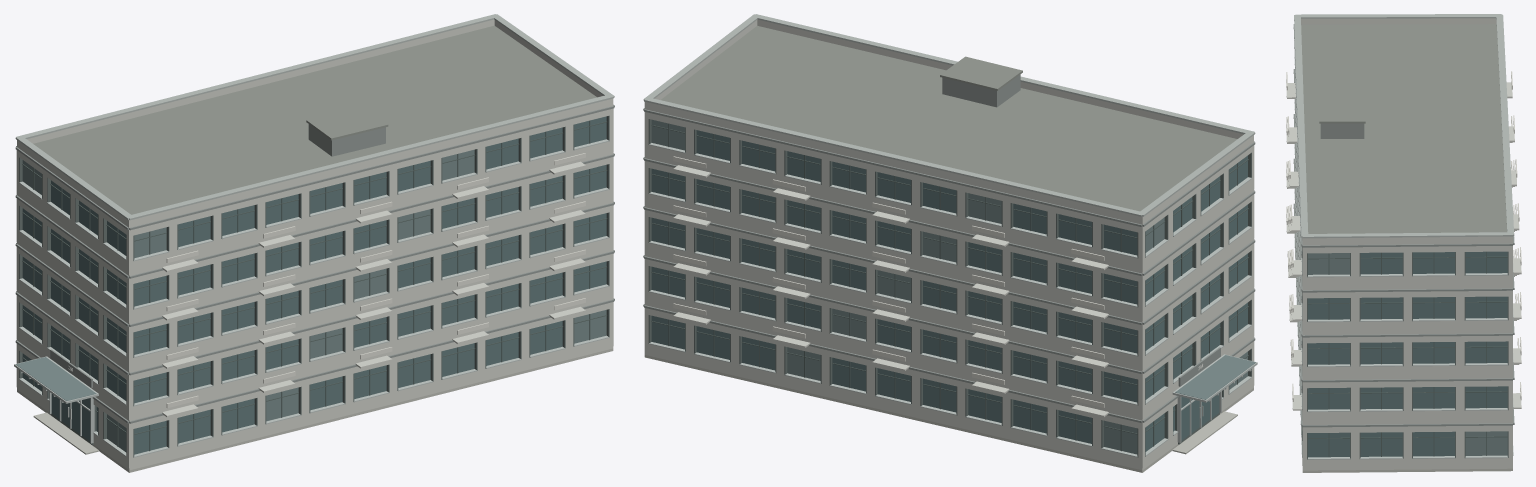
Rendered from mapped_1135360057.glb.
3 renders of one model, left to right at view 1: azimuth 30°, elevation 25°; view 2: azimuth 150°, elevation 25°; view 3: azimuth 270°, elevation 25°, orthographic. The views are drawn at different scales.
Parts seen in each view (by area): view 1: mapped_1135360057_HousingIvory, mapped_1135360057_WindowGlass, mapped_1135360057_FacultyRoof, mapped_1135360057_WindowReveal, mapped_1135360057_WindowAluminium, mapped_1135360057_FacultyDarkPanel, mapped_1135360057_WindowGlassLight, mapped_1135360057_Teaching5TileJoint, mapped_1135360057_WindowRubber, mapped_1135360057_WhiteTrim, mapped_1135360057_EntryStone; view 2: mapped_1135360057_HousingIvory, mapped_1135360057_FacultyRoof, mapped_1135360057_WindowGlass, mapped_1135360057_WindowAluminium, mapped_1135360057_FacultyDarkPanel, mapped_1135360057_WindowReveal, mapped_1135360057_WindowGlassLight, mapped_1135360057_Teaching5TileJoint, mapped_1135360057_WindowRubber, mapped_1135360057_WhiteTrim, mapped_1135360057_EntryStone; view 3: mapped_1135360057_FacultyRoof, mapped_1135360057_HousingIvory, mapped_1135360057_WindowGlass, mapped_1135360057_Teaching5TileJoint, mapped_1135360057_FacultyDarkPanel, mapped_1135360057_WindowAluminium, mapped_1135360057_WindowGlassLight, mapped_1135360057_WindowRubber, mapped_1135360057_WindowReveal, mapped_1135360057_WhiteTrim, mapped_1135360057_EntryStone.
Boxes of the visible parts, x1=… form: mapped_1135360057_HousingIvory: x1=16, y1=19, x2=613, y2=470; mapped_1135360057_WindowGlass: x1=22, y1=116, x2=606, y2=454; mapped_1135360057_FacultyRoof: x1=33, y1=25, x2=596, y2=214; mapped_1135360057_WindowReveal: x1=19, y1=115, x2=609, y2=457; mapped_1135360057_WindowAluminium: x1=14, y1=139, x2=609, y2=457; mapped_1135360057_FacultyDarkPanel: x1=15, y1=104, x2=614, y2=423; mapped_1135360057_WindowGlassLight: x1=16, y1=149, x2=606, y2=452; mapped_1135360057_Teaching5TileJoint: x1=15, y1=14, x2=614, y2=220; mapped_1135360057_WindowRubber: x1=22, y1=120, x2=607, y2=451; mapped_1135360057_WhiteTrim: x1=166, y1=153, x2=585, y2=408; mapped_1135360057_EntryStone: x1=17, y1=348, x2=613, y2=472; mapped_1135360057_HousingIvory: x1=644, y1=19, x2=1254, y2=470; mapped_1135360057_FacultyRoof: x1=661, y1=25, x2=1237, y2=211; mapped_1135360057_WindowGlass: x1=651, y1=130, x2=1247, y2=451; mapped_1135360057_WindowAluminium: x1=649, y1=143, x2=1257, y2=457; mapped_1135360057_FacultyDarkPanel: x1=643, y1=74, x2=1255, y2=422; mapped_1135360057_WindowReveal: x1=648, y1=119, x2=1251, y2=457; mapped_1135360057_WindowGlassLight: x1=651, y1=119, x2=1255, y2=454; mapped_1135360057_Teaching5TileJoint: x1=643, y1=14, x2=1255, y2=216; mapped_1135360057_WindowRubber: x1=651, y1=123, x2=1248, y2=451; mapped_1135360057_WhiteTrim: x1=673, y1=156, x2=1104, y2=407; mapped_1135360057_EntryStone: x1=644, y1=355, x2=1253, y2=472; mapped_1135360057_FacultyRoof: x1=1301, y1=24, x2=1507, y2=233; mapped_1135360057_HousingIvory: x1=1286, y1=18, x2=1521, y2=470; mapped_1135360057_WindowGlass: x1=1308, y1=251, x2=1507, y2=457; mapped_1135360057_Teaching5TileJoint: x1=1294, y1=14, x2=1514, y2=238; mapped_1135360057_FacultyDarkPanel: x1=1293, y1=24, x2=1514, y2=427; mapped_1135360057_WindowAluminium: x1=1294, y1=59, x2=1513, y2=459; mapped_1135360057_WindowGlassLight: x1=1308, y1=253, x2=1507, y2=455; mapped_1135360057_WindowRubber: x1=1308, y1=251, x2=1507, y2=456; mapped_1135360057_WindowReveal: x1=1301, y1=247, x2=1508, y2=459; mapped_1135360057_WhiteTrim: x1=1286, y1=71, x2=1521, y2=401; mapped_1135360057_EntryStone: x1=1302, y1=468, x2=1512, y2=472.
Size of the model in its own units: 38.75 by 19.28 by 16.25.
